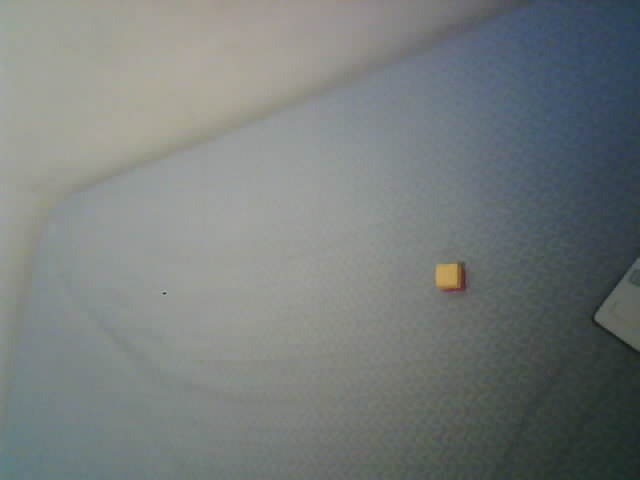lego: (433, 262, 466, 293)
